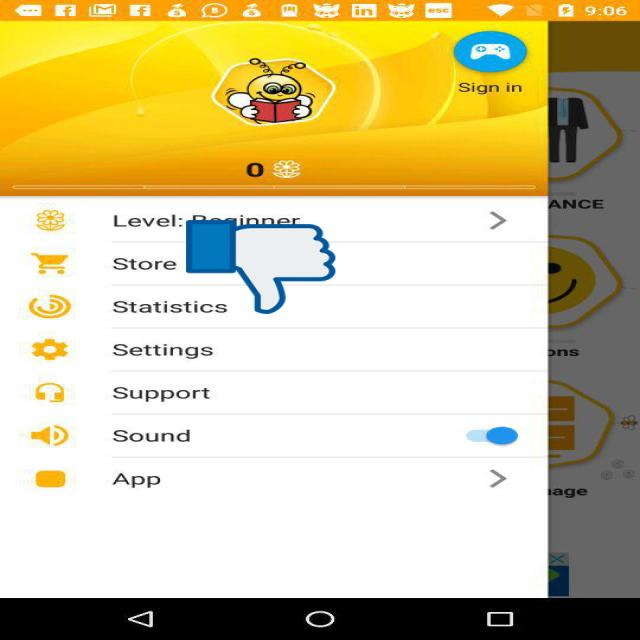obstruction: (186, 218, 335, 316)
